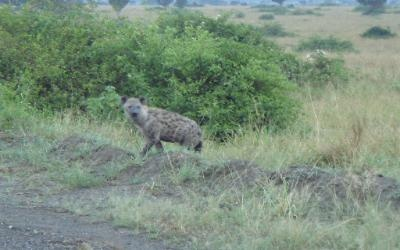hyna: (120, 93, 208, 160)
